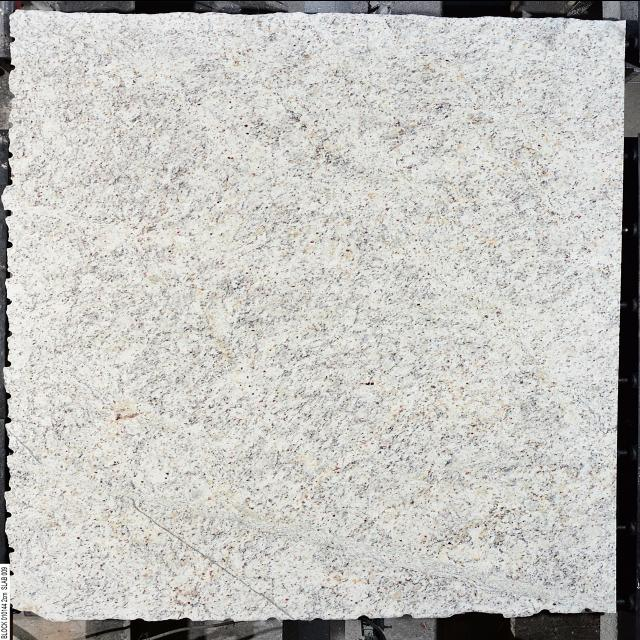chapa: (4, 10, 624, 620)
furo: (7, 604, 52, 624)
veio: (1, 206, 18, 216), (1, 388, 17, 398), (0, 359, 16, 369), (538, 607, 556, 615), (1, 240, 15, 250), (2, 270, 15, 280), (578, 606, 594, 614), (3, 510, 15, 520), (3, 415, 14, 425), (5, 449, 16, 458), (4, 297, 13, 307), (6, 546, 16, 554)
